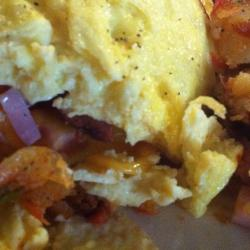omelette: (5, 2, 211, 124)
